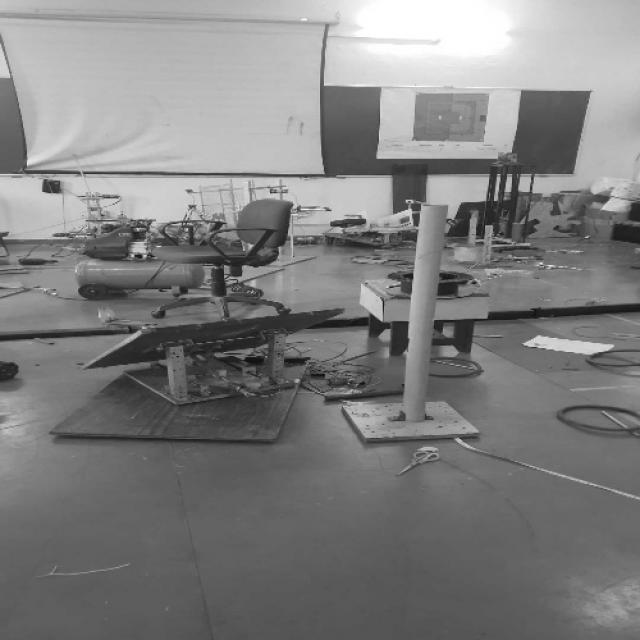poles: (347, 193, 498, 447)
